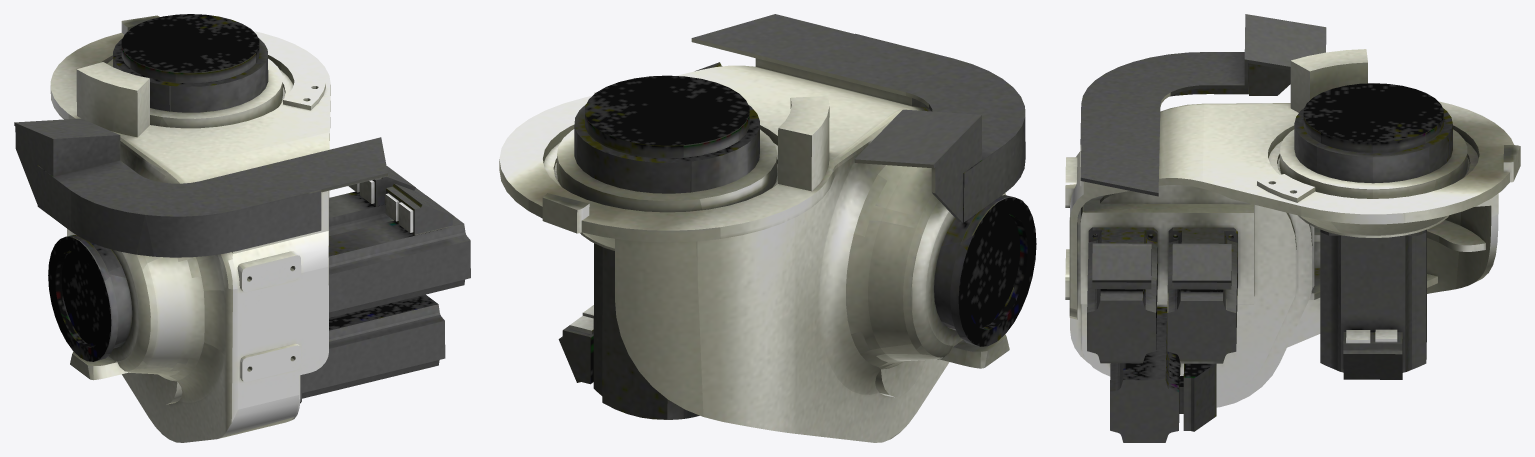
The model's file is robot1_arm2.glb.
3 renders of one model, left to right at view 1: azimuth 30°, elevation 25°; view 2: azimuth 150°, elevation 25°; view 3: azimuth 270°, elevation 25°, orthographic. The views are drawn at different scales.
Visible parts, largest first — view 1: Asset3DLoader.sceneRoot; view 2: Asset3DLoader.sceneRoot; view 3: Asset3DLoader.sceneRoot.
Part boxes in pixels (x1,y1,x2,y2): Asset3DLoader.sceneRoot: (14,14,470,442); Asset3DLoader.sceneRoot: (499,14,1036,442); Asset3DLoader.sceneRoot: (1065,14,1520,442).
Size of the model in its own units: 437 by 381 by 494.
Materials: 1 (1 with a texture image).
